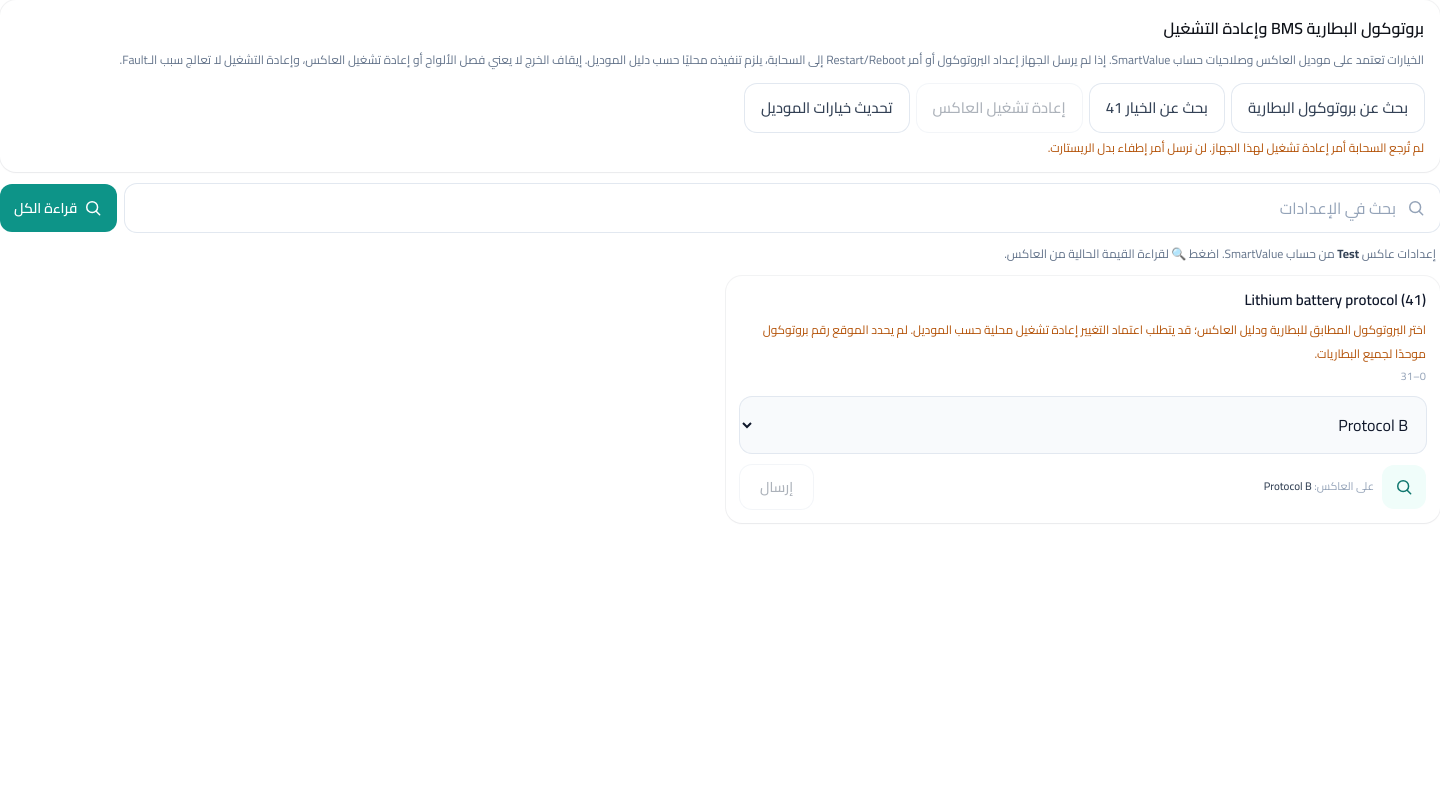
normalizes BMS initial display labels and keeps unsupported restart disabled
Later steps or results of the test are not shown.
Expected: the button "إعادة تشغيل العاكس" is disabled, [916,84,1082,132]
Select "Protocol C" in the dropdown at (1083, 425), box [740,397,1426,453]
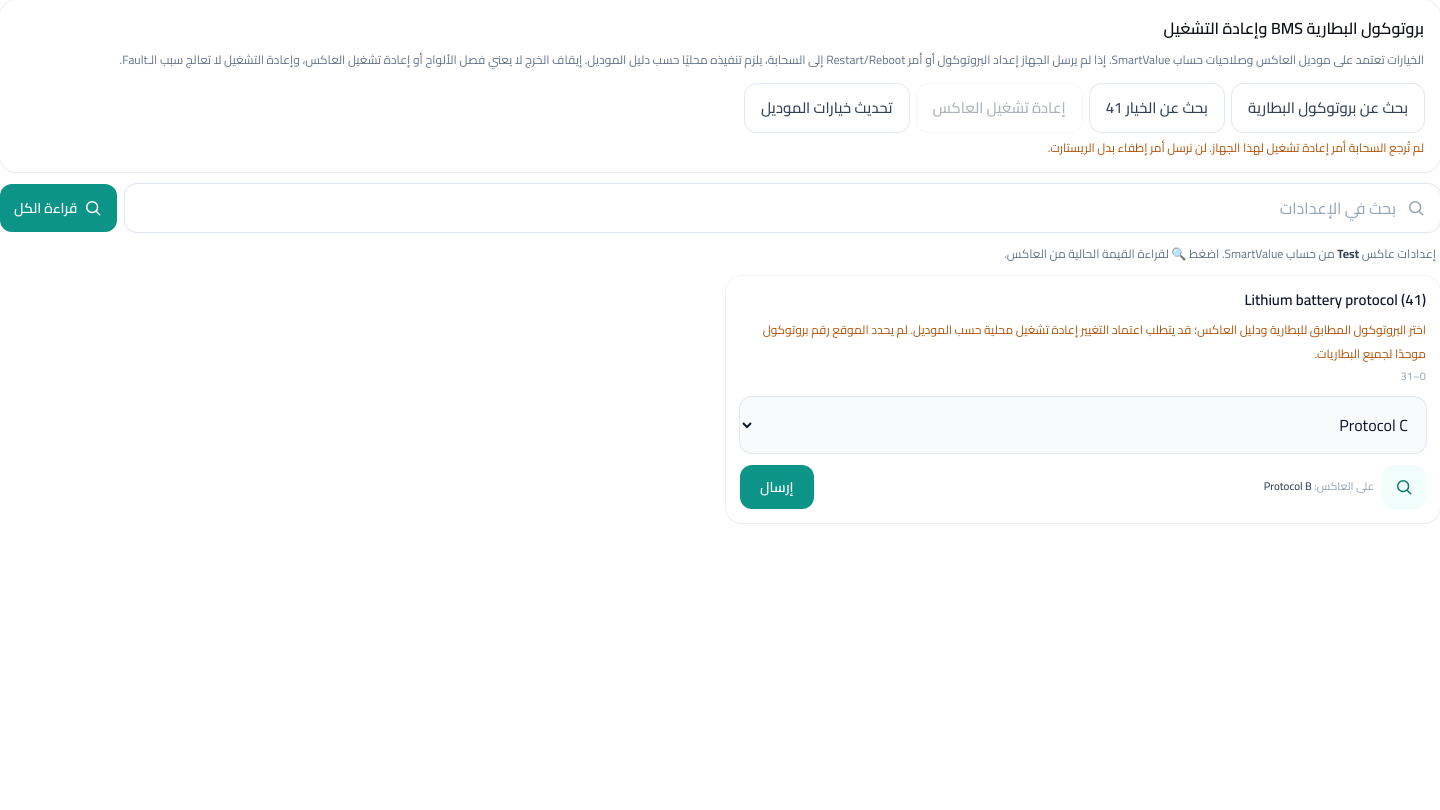
Click the button "إرسال".
click(777, 487)  # box [740,465,814,509]
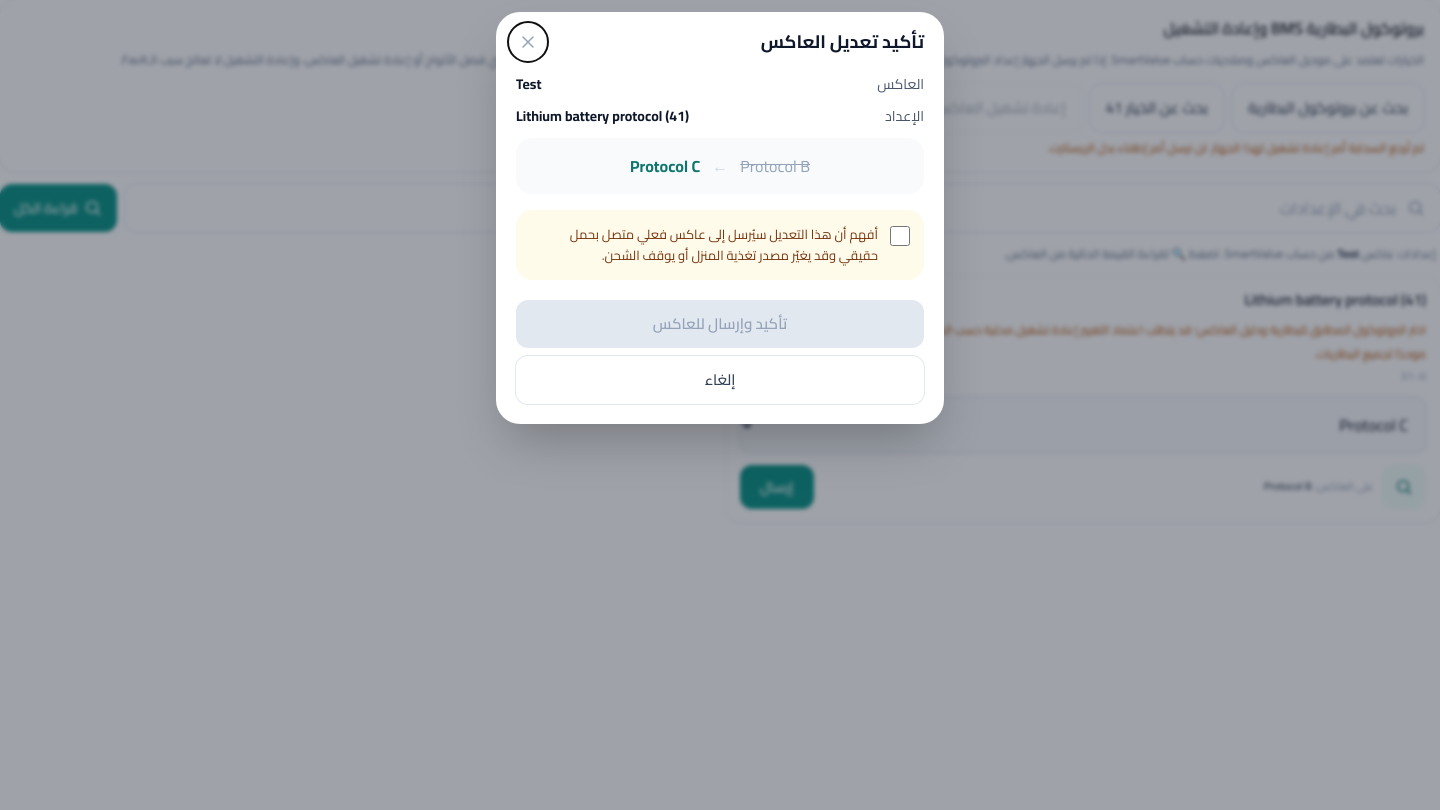
Expected: the button "تأكيد وإرسال للعاكس" is disabled, [516,300,924,348]
